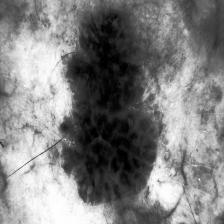Benign Marking or Mole: (60, 10, 160, 202)
